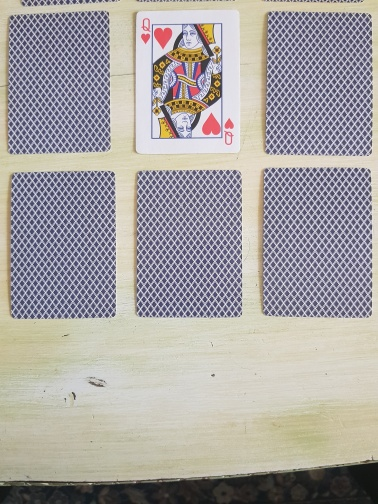queen: (135, 11, 241, 154)
